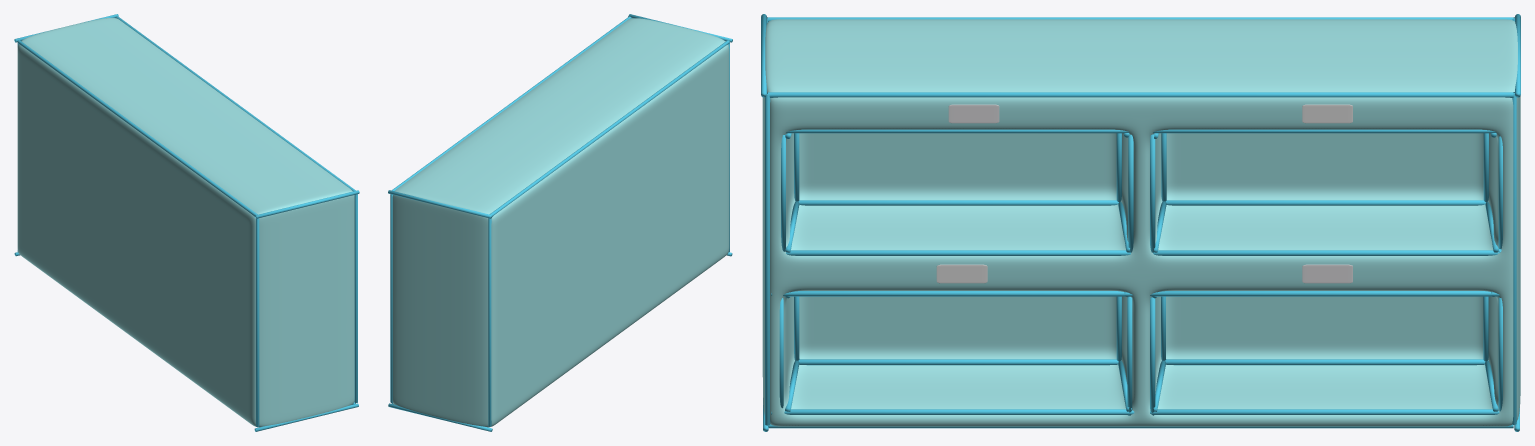
The model's file is cubby.fbx.
3 views of the same model, side by side, from view 1: azimuth 30°, elevation 25°; view 2: azimuth 150°, elevation 25°; view 3: azimuth 270°, elevation 25° (orthographic). The views are drawn at different scales.
Parts seen in each view (by area): view 1: Cube, Cylinder.039, Cylinder.033, Cylinder.032, Cylinder.036, Cylinder.058, Cylinder.059; view 2: Cube, Cylinder.039, Cylinder.034, Cylinder.036, Cylinder.035, Cylinder.038; view 3: Cube, Cylinder.036, Cylinder.040, Cylinder.039, Cylinder.002, Cylinder.020, Cylinder.027, Cylinder.025, Cylinder.019, Cylinder.017, Cylinder.003, Cylinder.011 (+10 smaller).
Boxes of the visible parts, bbox=[...] form: Cube: bbox=[17, 17, 354, 427]; Cylinder.039: bbox=[17, 40, 257, 216]; Cylinder.033: bbox=[256, 218, 259, 427]; Cylinder.032: bbox=[354, 194, 357, 402]; Cylinder.036: bbox=[116, 16, 355, 191]; Cylinder.058: bbox=[255, 190, 359, 218]; Cylinder.059: bbox=[254, 403, 358, 431]; Cube: bbox=[392, 18, 729, 427]; Cylinder.039: bbox=[489, 40, 729, 216]; Cylinder.034: bbox=[488, 218, 491, 426]; Cylinder.036: bbox=[391, 16, 631, 191]; Cylinder.035: bbox=[390, 194, 392, 402]; Cylinder.038: bbox=[388, 190, 492, 218]; Cube: bbox=[762, 19, 1520, 426]; Cylinder.036: bbox=[768, 92, 1513, 97]; Cylinder.040: bbox=[768, 424, 1513, 428]; Cylinder.039: bbox=[768, 17, 1513, 21]; Cylinder.002: bbox=[798, 359, 1118, 365]; Cylinder.020: bbox=[1165, 359, 1488, 365]; Cylinder.027: bbox=[771, 409, 1134, 414]; Cylinder.025: bbox=[771, 291, 1132, 296]; Cylinder.019: bbox=[1150, 409, 1499, 414]; Cylinder.017: bbox=[1150, 291, 1499, 296]; Cylinder.003: bbox=[786, 250, 1130, 255]; Cylinder.011: bbox=[1153, 250, 1497, 255].
Bounding box in the file's own units: 201 × 400 × 801.
